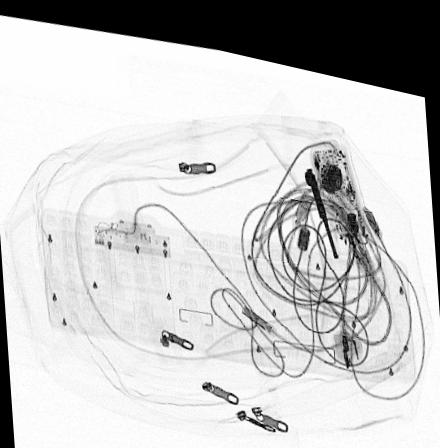Gun: (304, 152, 338, 244)
